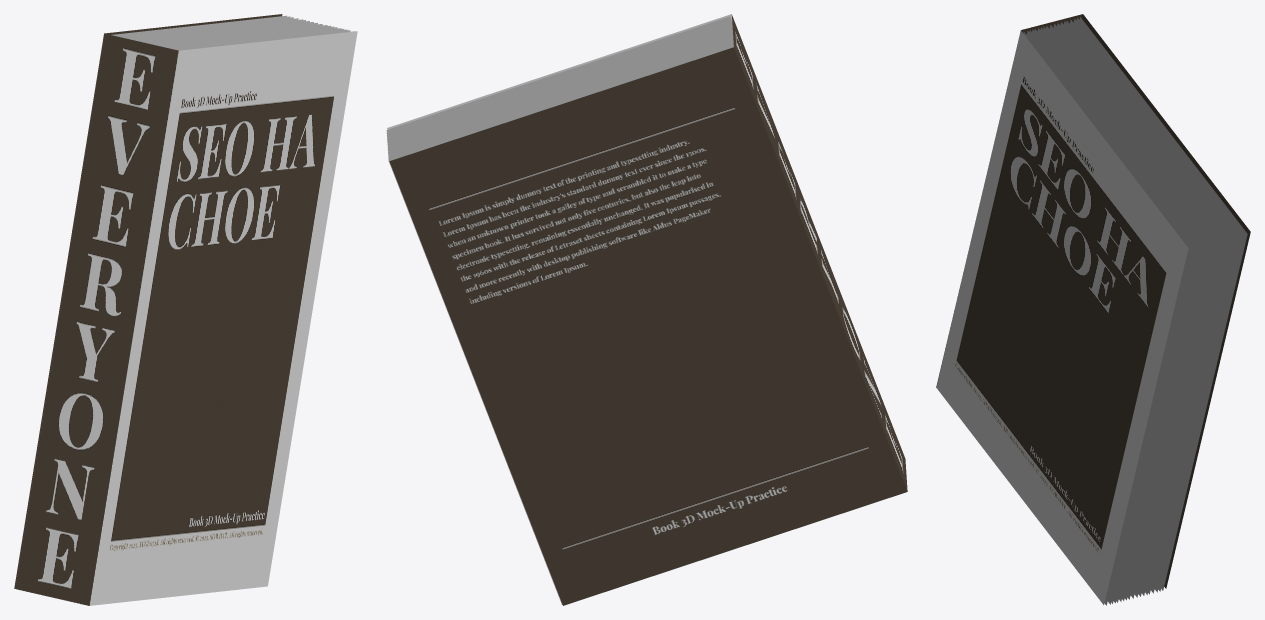
Rendered from book.glb.
3 renders of one model, left to right at view 1: azimuth 30°, elevation 25°; view 2: azimuth 150°, elevation 25°; view 3: azimuth 270°, elevation 25°, orthographic. The views are drawn at different scales.
Parts seen in each view (by area): view 1: sites, Plane.019; view 2: sites, Plane.019; view 3: sites, Plane.019.
Boxes of the visible parts, x1,y1,x2,y2 form: sites: (14,14,357,605); Plane.019: (26,15,354,605); sites: (387,14,907,605); Plane.019: (386,16,733,604); sites: (936,14,1250,604); Plane.019: (1023,17,1247,605).
Bounding box in the file's own units: 1.85 × 2.36 × 1.29.
Materials: 2 (1 with a texture image).
